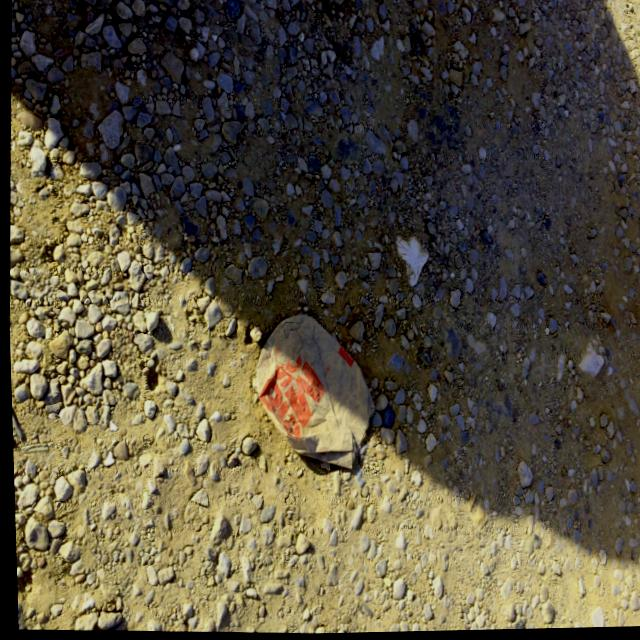Paper: (244, 295, 382, 484)
